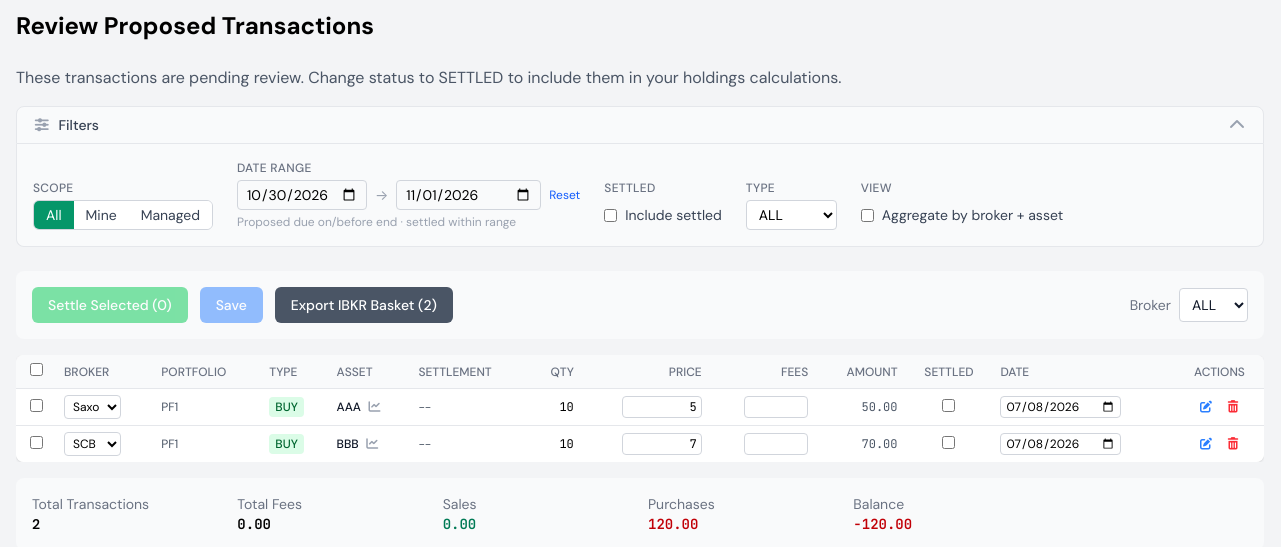
Proposed Transactions broker filter › filters visible rows by broker without editing transactions
Expected: the text "AAA" is shown, x1=337 y1=399 x2=361 y2=415
Expected: the text "BBB" is shown, x1=337 y1=436 x2=359 y2=452
Select "Saxo" in the dropdown named "Broker filter" at (1214, 305), box x1=1179 y1=288 x2=1248 y2=322
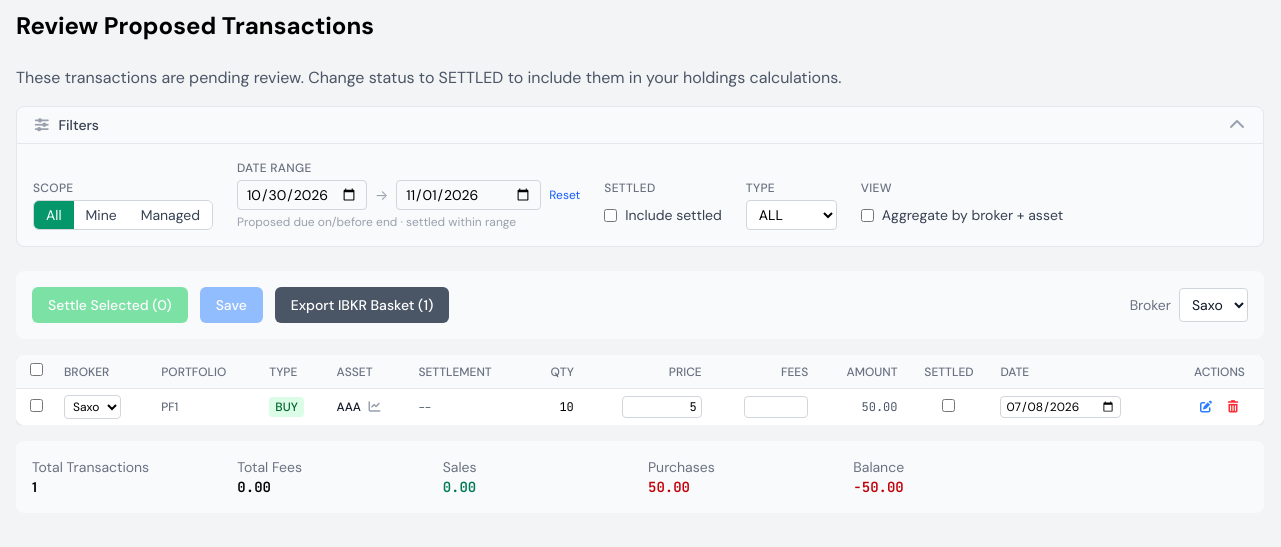
Expected: the text "AAA" is shown, x1=337 y1=399 x2=361 y2=415
Expected: the text "BBB" is gone
